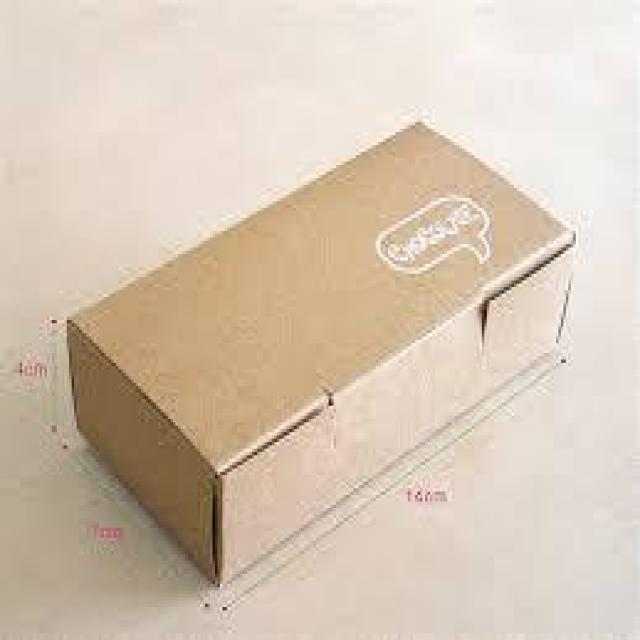box: (65, 116, 578, 594)
